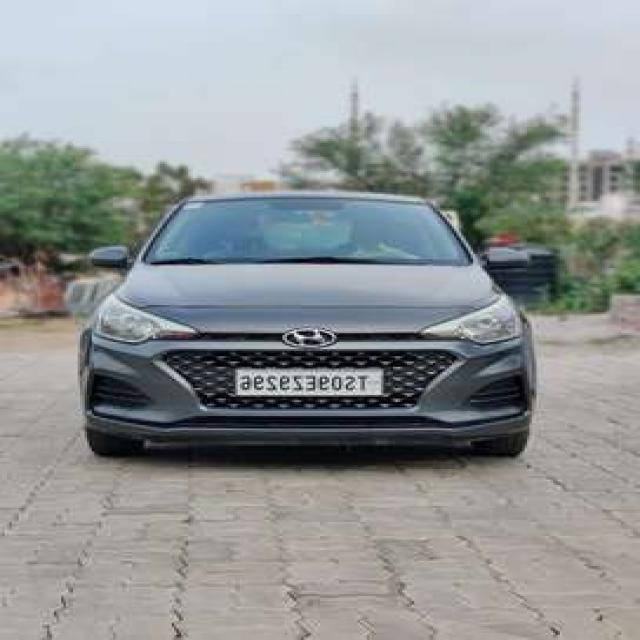license_plate: (229, 364, 390, 402)
